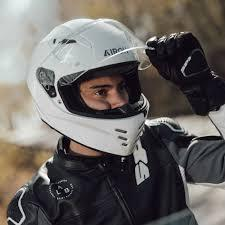Helmet: (27, 19, 150, 159)
